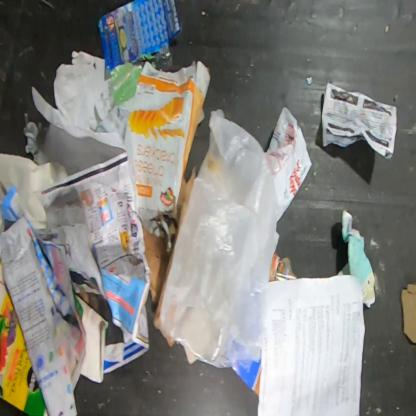cardboard: (0, 260, 50, 415), (110, 62, 142, 106), (232, 359, 261, 397), (401, 283, 415, 345)
soft_plastic: (155, 107, 280, 368), (120, 60, 211, 228), (266, 106, 312, 220)
